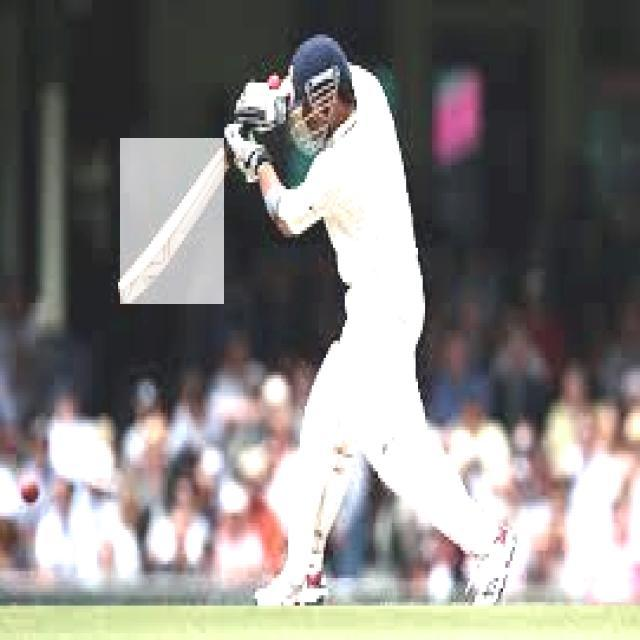bat: (121, 138, 224, 305)
toe: (115, 283, 128, 305)
